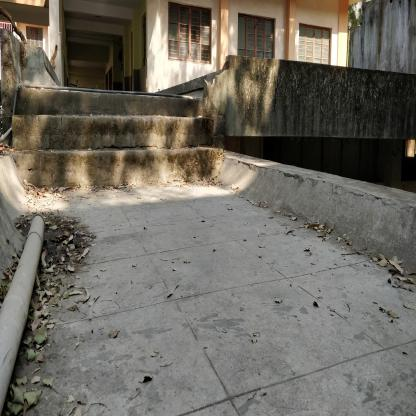stairs: (23, 85, 197, 193)
